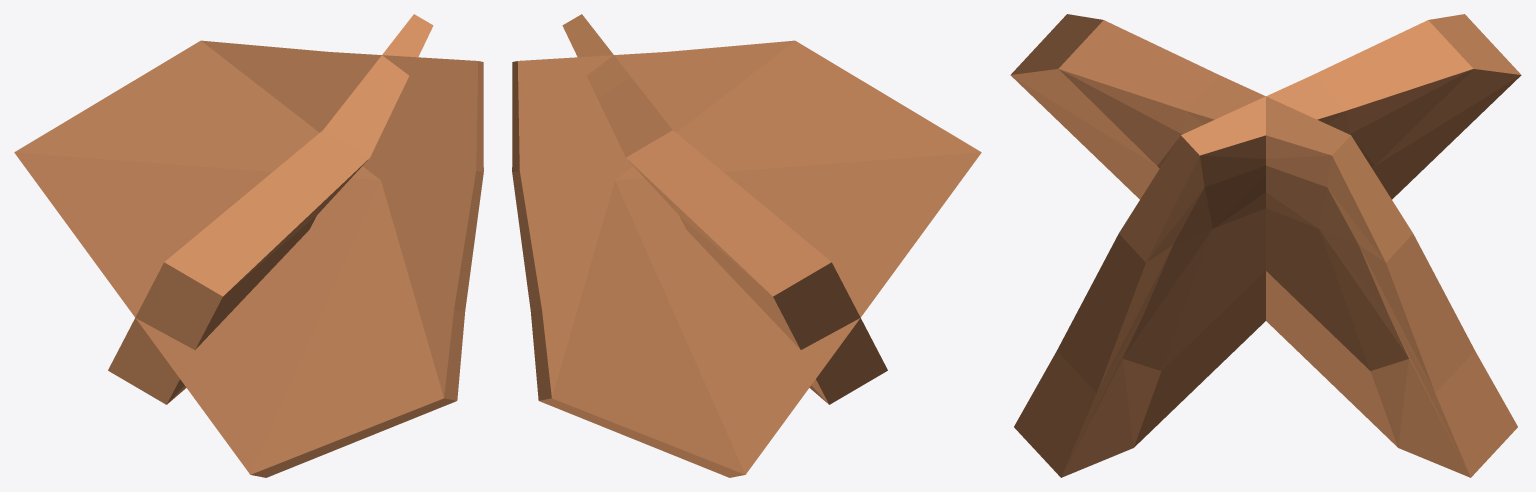
File: elf_short.glb
3 views of the same model, side by side, from view 1: azimuth 30°, elevation 25°; view 2: azimuth 150°, elevation 25°; view 3: azimuth 270°, elevation 25° (orthographic). The views are drawn at different scales.
Parts seen in each view (by area): view 1: Ear_R.001, Ear_L.001; view 2: Ear_L.001, Ear_R.001; view 3: Ear_L.001, Ear_R.001.
Boxes of the visible parts, <box> form: Ear_R.001: <box>14,40,483,477</box>; Ear_L.001: <box>108,14,433,404</box>; Ear_L.001: <box>512,40,981,477</box>; Ear_R.001: <box>562,14,887,404</box>; Ear_L.001: <box>1010,14,1517,477</box>; Ear_R.001: <box>1014,14,1521,477</box>.
Bounding box in the file's own units: 0.0563 × 0.0507 × 0.051.
1 material, 1 textured.
